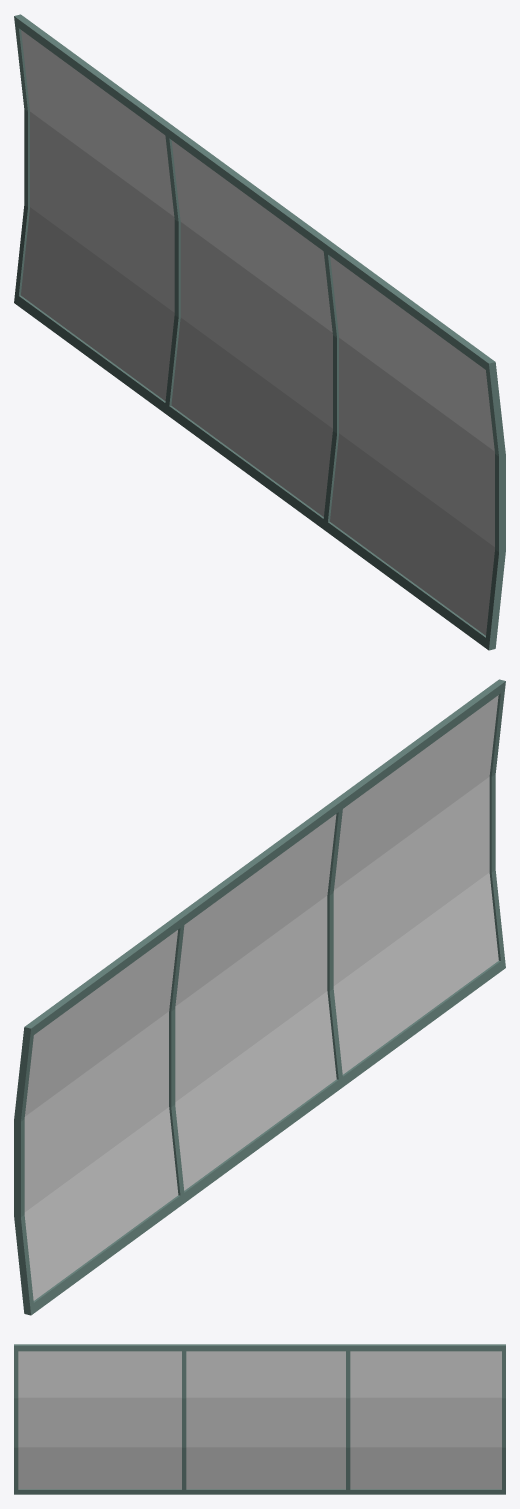
File: Vetrata12x4.fbx
The picture shows the model from 3 angles, top to bottom: view 1: azimuth 30°, elevation 25°; view 2: azimuth 150°, elevation 25°; view 3: azimuth 270°, elevation 25°; orthographic projection. The views are drawn at different scales.
Visible parts, largest first — view 1: Vetro, Telaio; view 2: Vetro, Telaio; view 3: Vetro, Telaio.
Part boxes in pixels (bbox=[...]): Vetro: bbox=[21, 30, 494, 635]; Telaio: bbox=[14, 14, 505, 650]; Vetro: bbox=[24, 695, 498, 1300]; Telaio: bbox=[14, 679, 505, 1315]; Vetro: bbox=[18, 1351, 501, 1489]; Telaio: bbox=[14, 1344, 505, 1494].
Bounding box in the file's own units: 25 × 400 × 1200.
